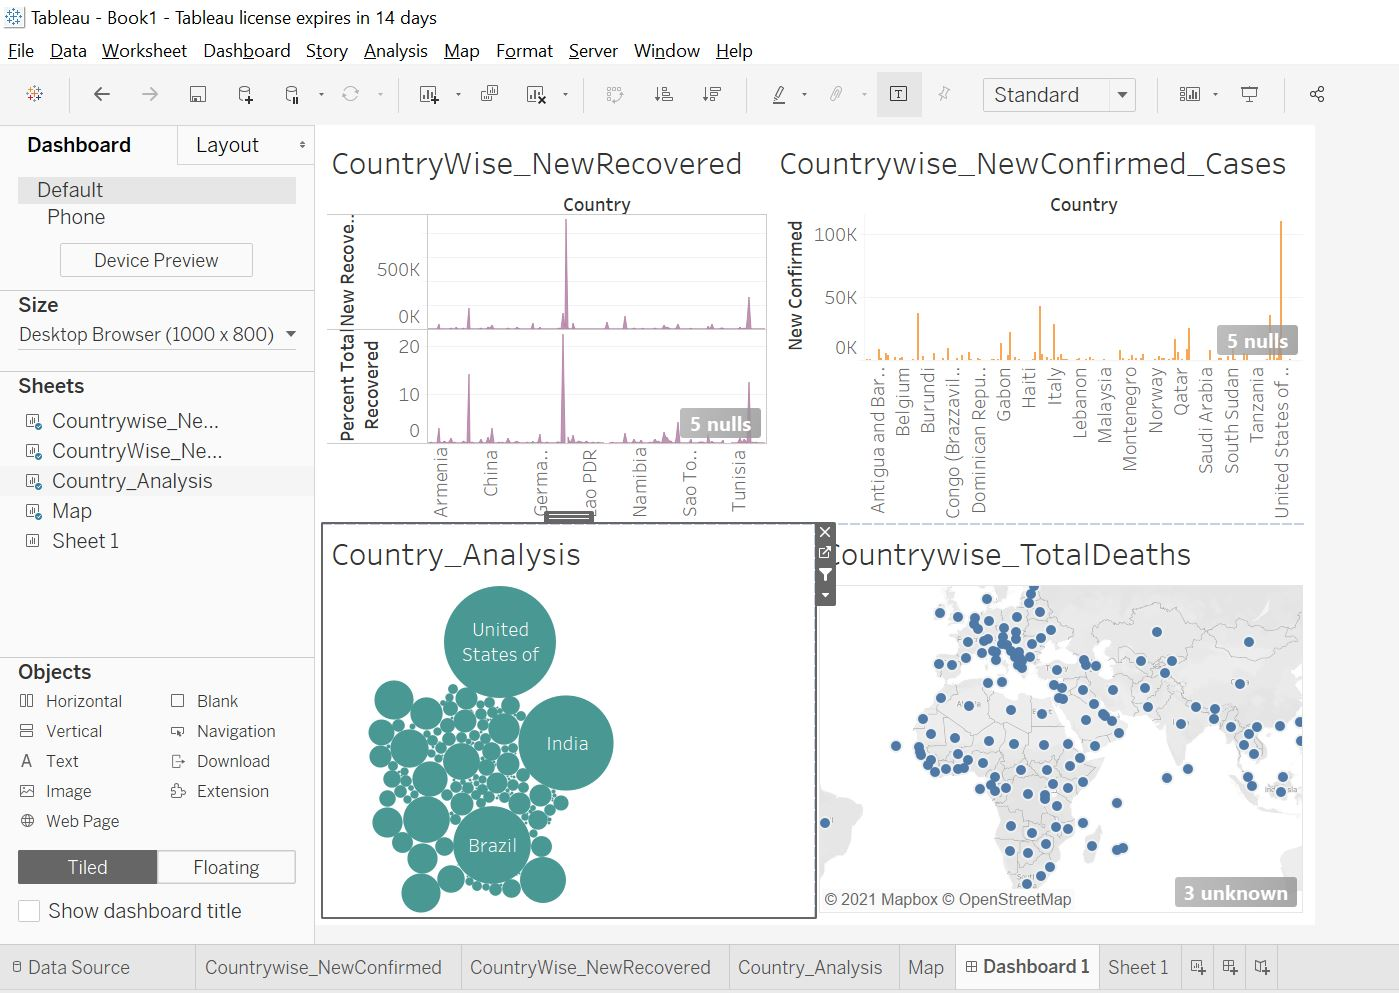

The page's visual inventory and layout, read from the dashboard file:
{"tool":"tableau","page":{"name":"Dashboard 1","canvas":[1000,800],"ordinal":0},"visuals":[{"type":"worksheet","box":[0,0,1000,800]},{"type":"worksheet","param":"horz","box":[8,8,984,784]},{"type":"worksheet","param":"horz","box":[8,8,984,784]},{"type":"worksheet","box":[8,8,984,784]},{"type":"worksheet","param":"vert","box":[8,8,984,391.2]},{"type":"worksheet","param":"horz","box":[8,8,984,391.2]},{"type":"worksheet","box":[8,8,984,391.2]},{"type":"worksheet","title":"CountryWise_NewRecovered","mark":"Area","rows":["NewRecovered","Percent_Total_Recovered"],"cols":["Country"],"box":[8,8,448,391.2]},{"type":"worksheet","title":"Countrywise_NewConfirmed","mark":"Automatic","rows":["NewConfirmed"],"cols":["Country"],"box":[456,8,536,391.2]},{"type":"worksheet","title":"Country_Analysis","mark":"Circle","box":[8,399.2,492,392.8]},{"type":"worksheet","title":"Map","mark":"Multipolygon","box":[500,399.2,492,392.8]}]}

Visuals, with their boxes on the page's 1000x800 design canvas (x1, y1, x2, y2). These are canvas units, not pixel positions in the 1399x993 screenshot, which may show the page scaled, cropped or inside an application window:
worksheet: [0, 0, 1000, 800]
worksheet: [8, 8, 992, 792]
worksheet: [8, 8, 992, 792]
worksheet: [8, 8, 992, 792]
worksheet: [8, 8, 992, 399]
worksheet: [8, 8, 992, 399]
worksheet: [8, 8, 992, 399]
"CountryWise_NewRecovered" worksheet (Area marks): [8, 8, 456, 399]
"Countrywise_NewConfirmed" worksheet: [456, 8, 992, 399]
"Country_Analysis" worksheet (Circle marks): [8, 399, 500, 792]
"Map" worksheet (Multipolygon marks): [500, 399, 992, 792]
